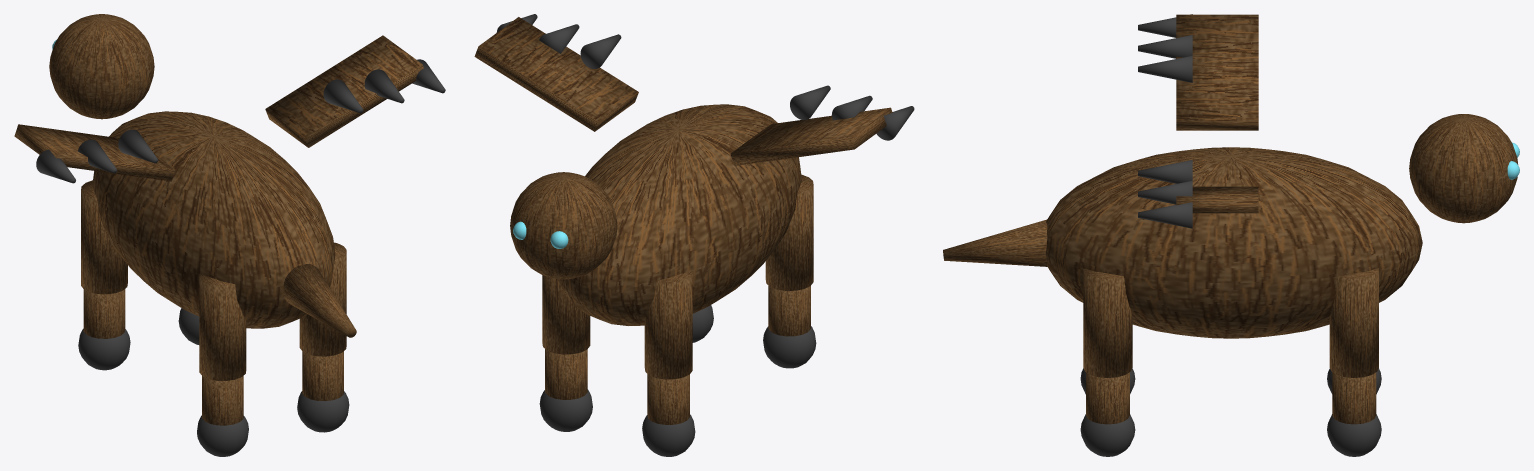
Rendered from lamassu.glb.
The picture shows the model from 3 angles, left to right: view 1: azimuth 30°, elevation 25°; view 2: azimuth 150°, elevation 25°; view 3: azimuth 270°, elevation 25°; orthographic projection. The views are drawn at different scales.
Parts seen in each view (by area): view 1: Body, Head, Wing.001, LegUpper, Wing, LegUpper.001, Tail, LegUpper.002, LegLower.001, LegLower, LegLower.002, Paw.001 (+9 smaller); view 2: Body, Head, Wing.001, Wing, LegUpper.001, LegUpper, LegUpper.003, LegLower, LegLower.001, LegLower.003, Paw, Paw.001 (+7 smaller); view 3: Body, Head, Wing, LegUpper.002, LegUpper.003, Tail, LegLower.003, LegLower.002, Wing.001, Paw.002, Paw.003, Feather (+4 smaller).
Part boxes in pixels (x1=…): Body: x1=92, y1=111, x2=335, y2=328; Head: x1=49, y1=14, x2=154, y2=119; Wing.001: x1=265, y1=35, x2=423, y2=147; LegUpper: x1=199, y1=274, x2=246, y2=380; Wing: x1=14, y1=124, x2=175, y2=181; LegUpper.001: x1=81, y1=180, x2=127, y2=294; Tail: x1=283, y1=264, x2=356, y2=337; LegUpper.002: x1=299, y1=242, x2=346, y2=356; LegLower.001: x1=83, y1=289, x2=125, y2=338; LegLower: x1=202, y1=376, x2=243, y2=425; LegLower.002: x1=302, y1=351, x2=343, y2=400; Paw.001: x1=78, y1=328, x2=130, y2=370; Body: x1=558, y1=104, x2=801, y2=325; Head: x1=510, y1=172, x2=617, y2=279; Wing.001: x1=474, y1=17, x2=638, y2=131; Wing: x1=730, y1=107, x2=892, y2=165; LegUpper.001: x1=644, y1=270, x2=692, y2=379; LegUpper: x1=765, y1=174, x2=813, y2=290; LegUpper.003: x1=542, y1=275, x2=590, y2=354; LegLower: x1=768, y1=285, x2=810, y2=336; LegLower.001: x1=647, y1=374, x2=689, y2=424; LegLower.003: x1=545, y1=349, x2=587, y2=399; Paw: x1=763, y1=326, x2=816, y2=368; Paw.001: x1=642, y1=414, x2=695, y2=456; Body: x1=1045, y1=147, x2=1422, y2=338; Head: x1=1409, y1=114, x2=1518, y2=223; Wing: x1=1176, y1=14, x2=1258, y2=130; LegUpper.002: x1=1083, y1=268, x2=1132, y2=377; LegUpper.003: x1=1329, y1=268, x2=1378, y2=377; Tail: x1=943, y1=219, x2=1047, y2=266; LegLower.003: x1=1332, y1=372, x2=1376, y2=424; LegLower.002: x1=1086, y1=372, x2=1129, y2=424; Wing.001: x1=1176, y1=186, x2=1258, y2=213; Paw.002: x1=1080, y1=414, x2=1135, y2=456; Paw.003: x1=1327, y1=414, x2=1381, y2=456; Feather: x1=1138, y1=55, x2=1192, y2=82.
Bounding box in the file's own units: 1.33 × 1 × 1.62.
3 materials, 1 textured.
